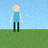person: (10, 5, 22, 32)
